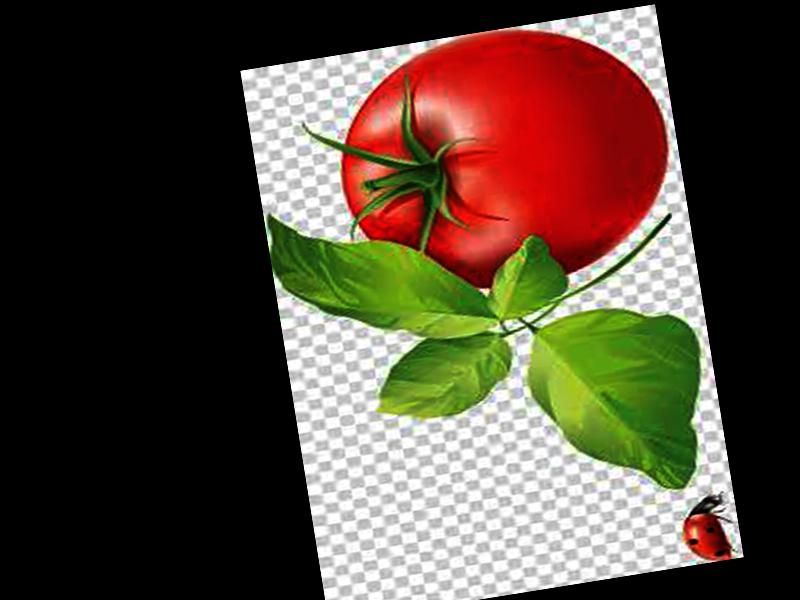Tomato: (322, 7, 685, 307)
